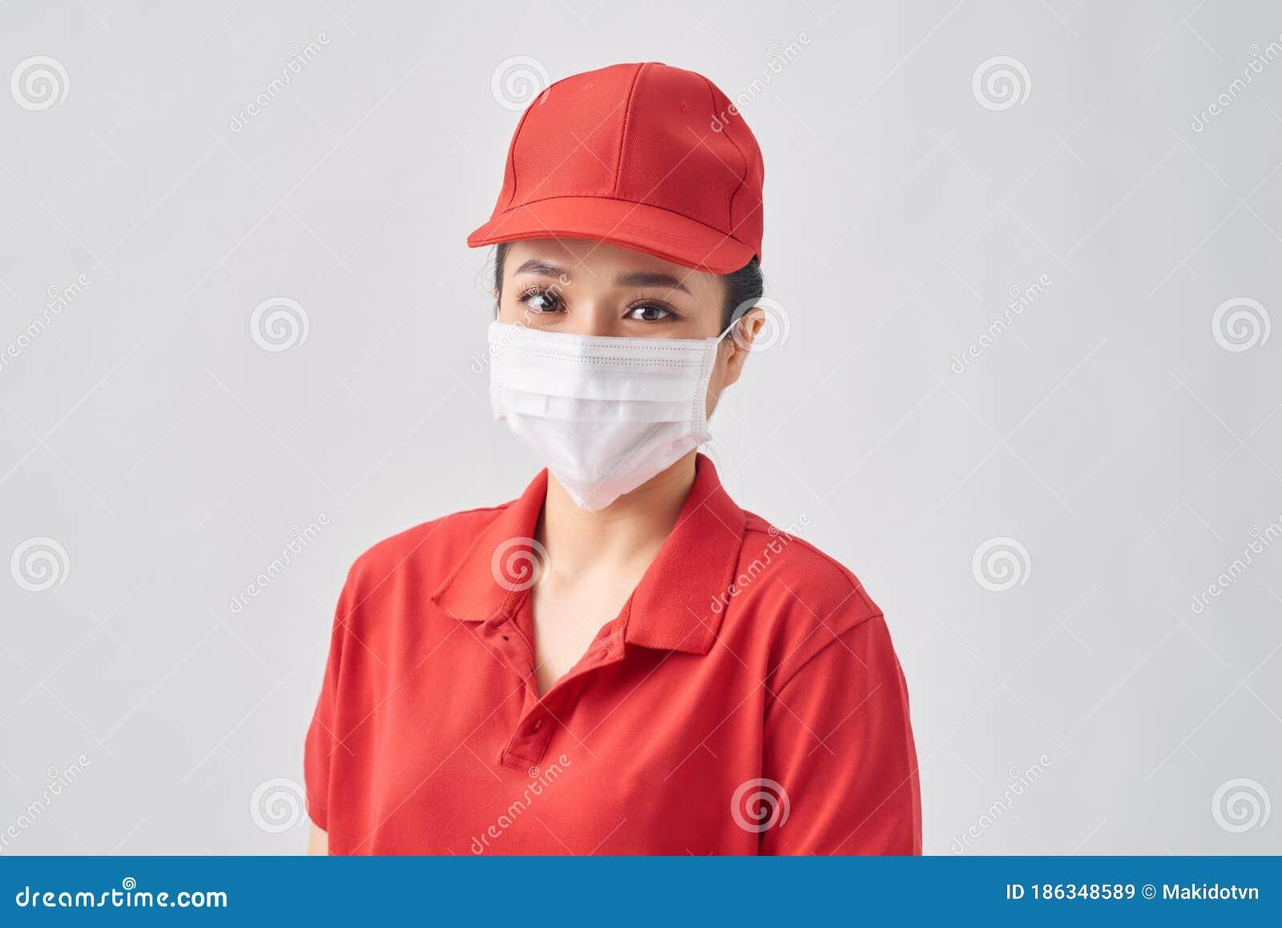cap: (449, 48, 796, 294)
mask: (465, 307, 727, 523)
